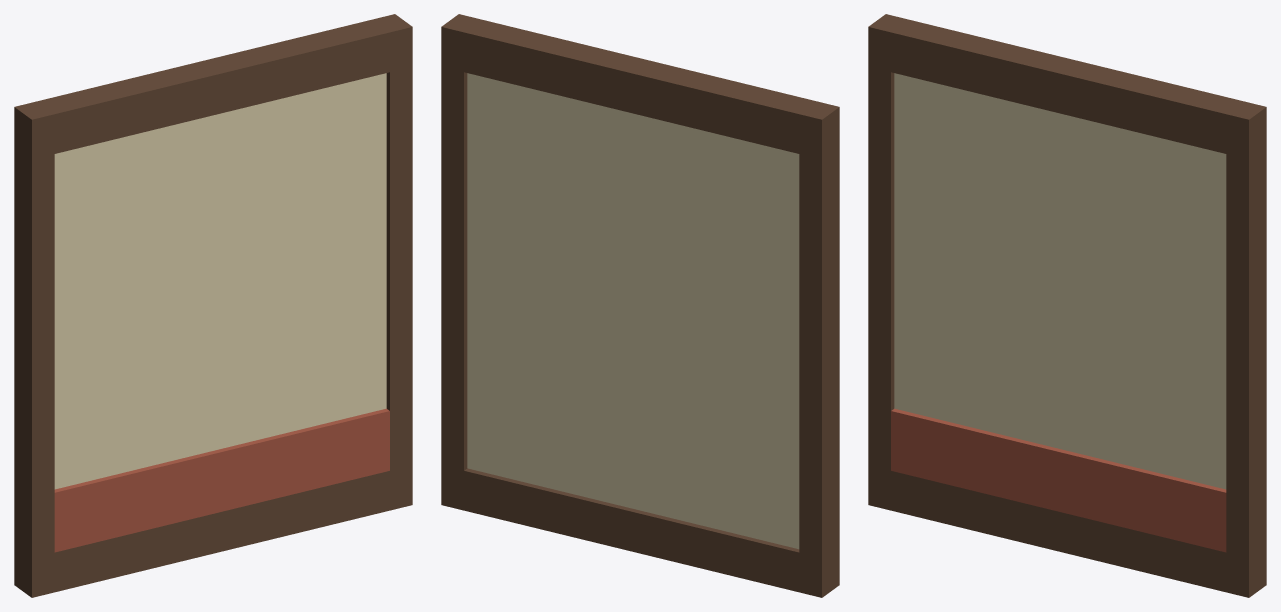
The model's file is wall-plain.glb.
The picture shows the model from 3 angles, left to right: view 1: azimuth 30°, elevation 25°; view 2: azimuth 150°, elevation 25°; view 3: azimuth 330°, elevation 25°; orthographic projection.
Visible parts, largest first — view 1: wall-plain; view 2: wall-plain; view 3: wall-plain.
Boxes of the visible parts, x1,y1,x2,y2 form: wall-plain: (14, 14, 412, 597); wall-plain: (441, 14, 839, 597); wall-plain: (868, 14, 1266, 597).
Bounding box in the file's own units: 2 × 2.4 × 0.16.
